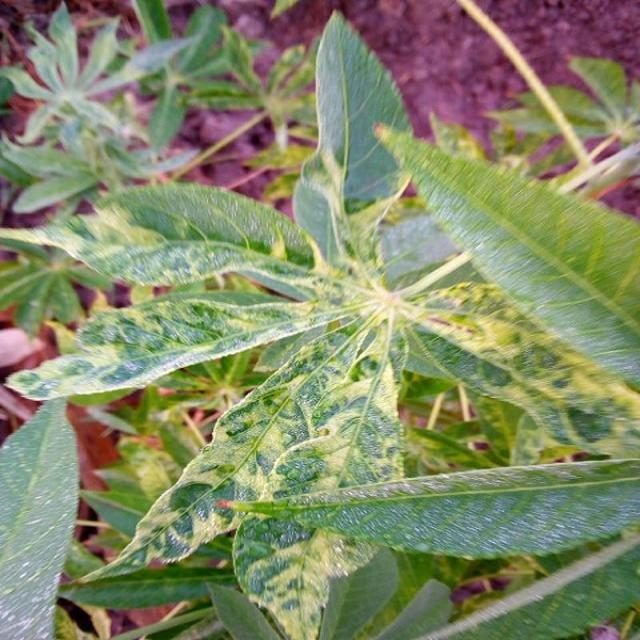cassava leaf: (3, 8, 638, 638)
